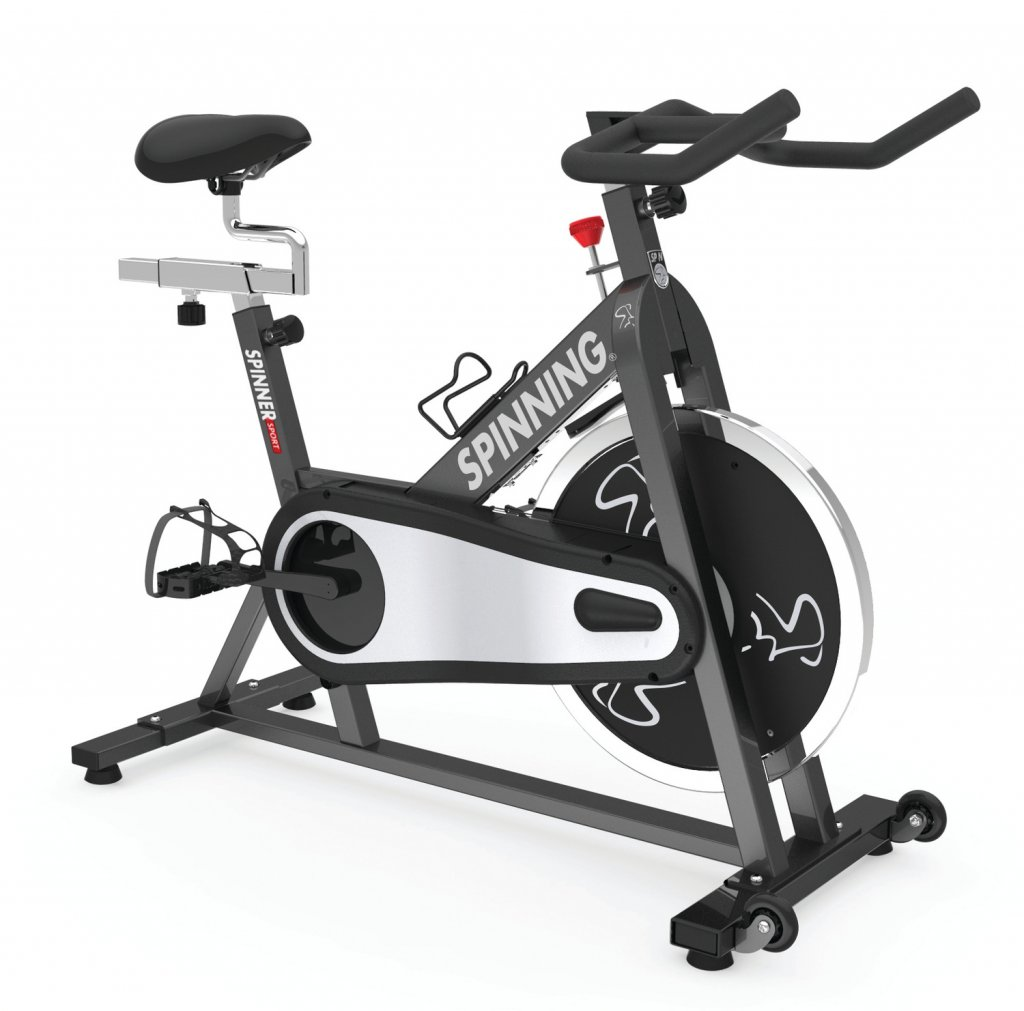gym_bike: (109, 59, 975, 977)
